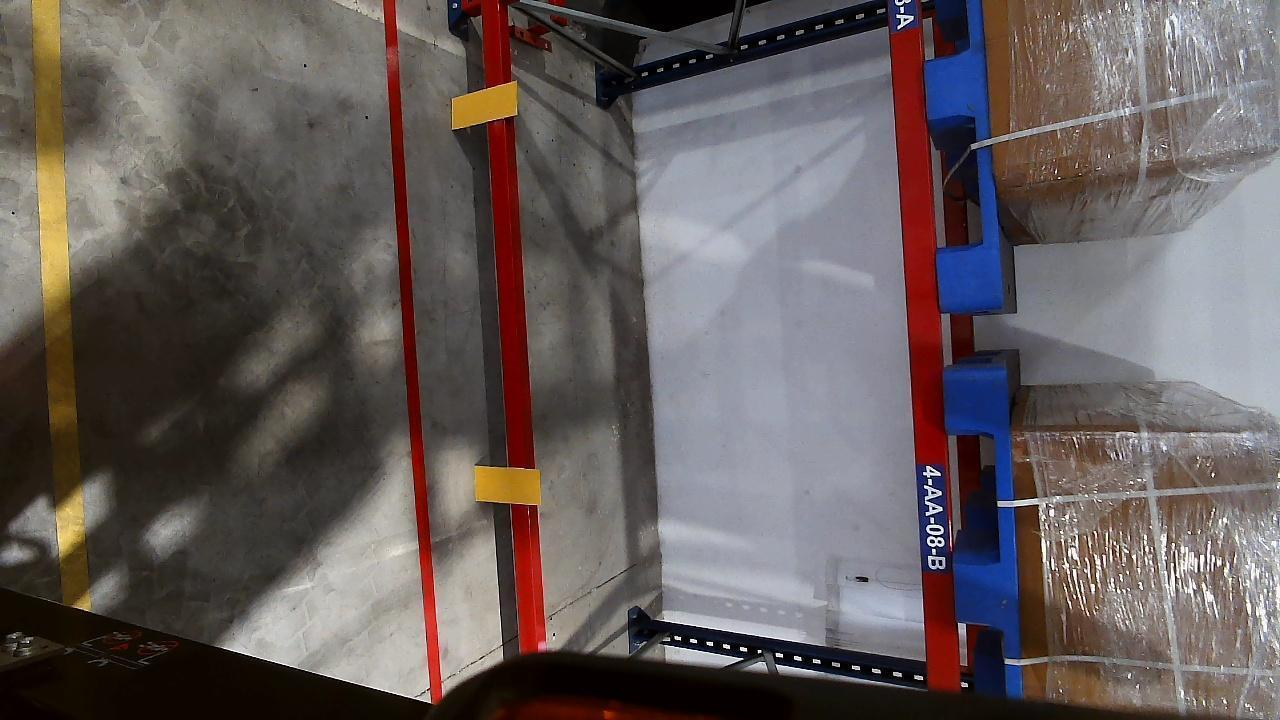red_line: (376, 1, 448, 690)
yellow_line: (13, 0, 92, 603)
